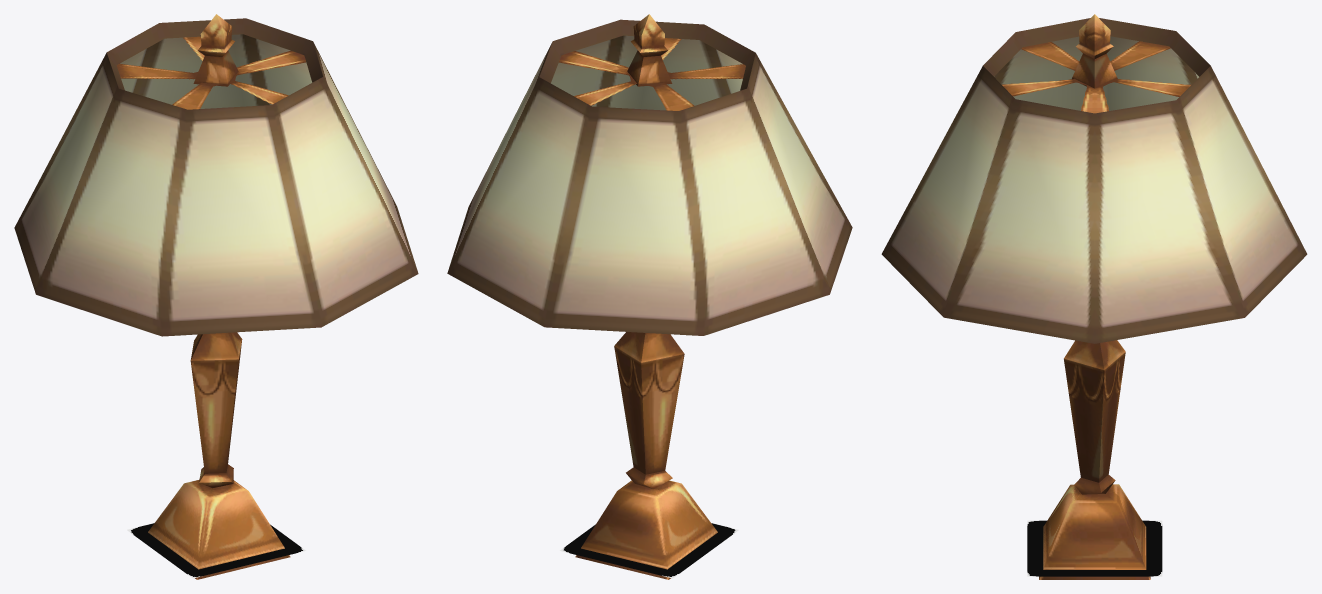
Rendered from jj_ty_luodideng02.FBX.
The picture shows the model from 3 angles, left to right: view 1: azimuth 30°, elevation 25°; view 2: azimuth 150°, elevation 25°; view 3: azimuth 270°, elevation 25°; orthographic projection.
Parts seen in each view (by area): view 1: jj_ty_luodideng02, shadow; view 2: jj_ty_luodideng02, shadow; view 3: jj_ty_luodideng02, shadow.
Part boxes in pixels (x1,y1,x2,y2): jj_ty_luodideng02: [14, 14, 418, 579]; shadow: [127, 523, 305, 578]; jj_ty_luodideng02: [447, 14, 852, 579]; shadow: [560, 523, 738, 578]; jj_ty_luodideng02: [881, 14, 1307, 579]; shadow: [1027, 520, 1162, 576].
Size of the model in its own units: 51.48 by 72.79 by 51.78.
